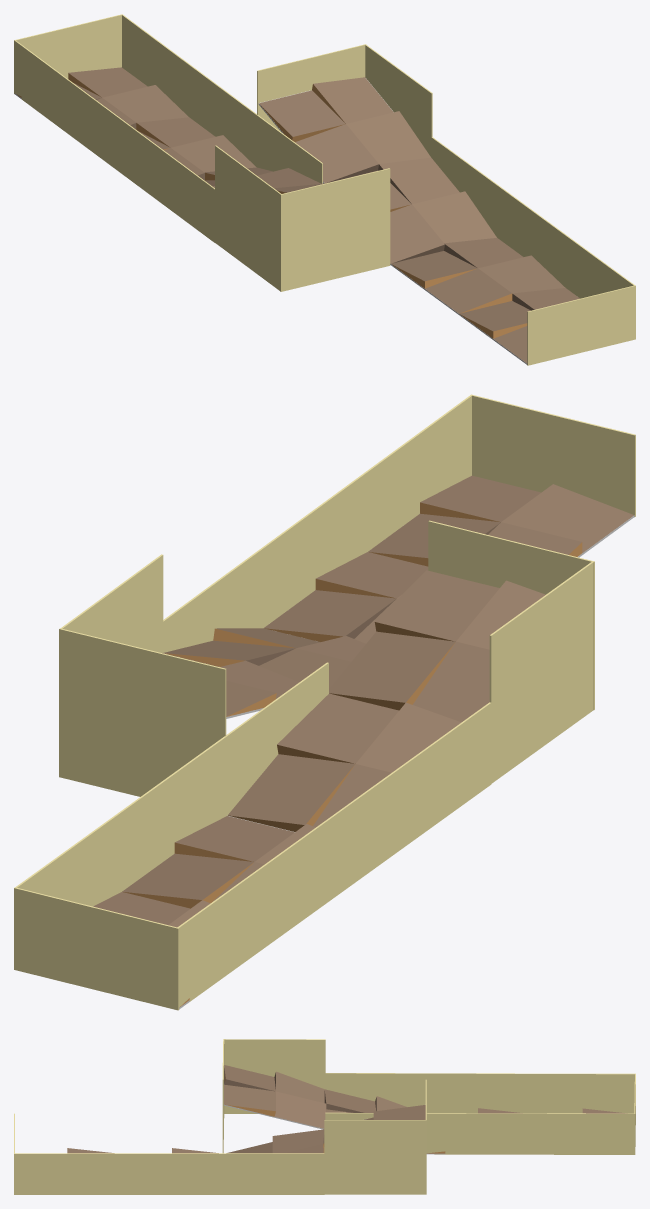
The model's file is PinwheelSlopeDef.dae.
3 views of the same model, one above another, from view 1: azimuth 30°, elevation 25°; view 2: azimuth 150°, elevation 25°; view 3: azimuth 270°, elevation 25° (orthographic). The views are drawn at different scales.
Parts seen in each view (by area): view 1: Cube.040, Cube.032; view 2: Cube.040, Cube.032; view 3: Cube.040, Cube.032.
Boxes of the visible parts, x1,y1,x2,y2 form: Cube.040: [14, 14, 635, 365]; Cube.032: [15, 67, 579, 363]; Cube.040: [14, 394, 635, 1010]; Cube.032: [93, 475, 633, 1007]; Cube.040: [14, 1039, 635, 1194]; Cube.032: [67, 1065, 627, 1153].
Bounding box in the file's own units: 3.68 × 11.9 × 1.57.
